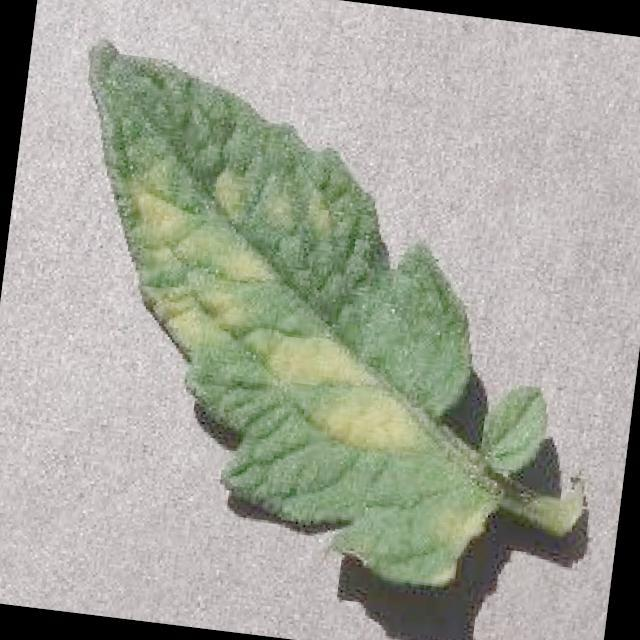Tomato healthy leaf: (24, 34, 550, 594)
